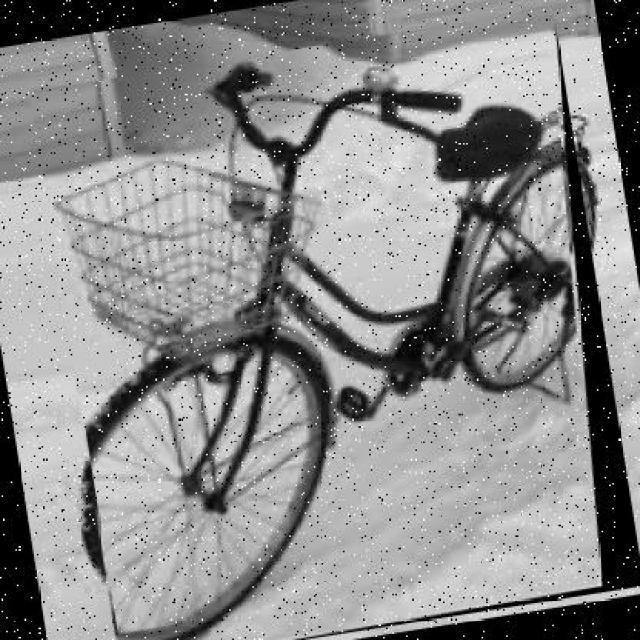bicycle: (32, 9, 640, 640)
